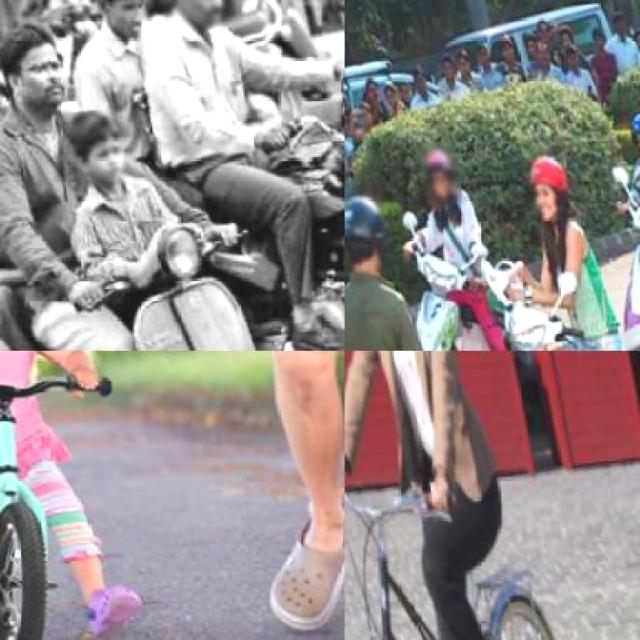With Helmet: (513, 140, 576, 232), (345, 178, 397, 278), (413, 136, 464, 207), (618, 97, 638, 168)
Without Helmet: (0, 24, 77, 121), (60, 103, 129, 191), (150, 0, 246, 38), (88, 0, 160, 40)
